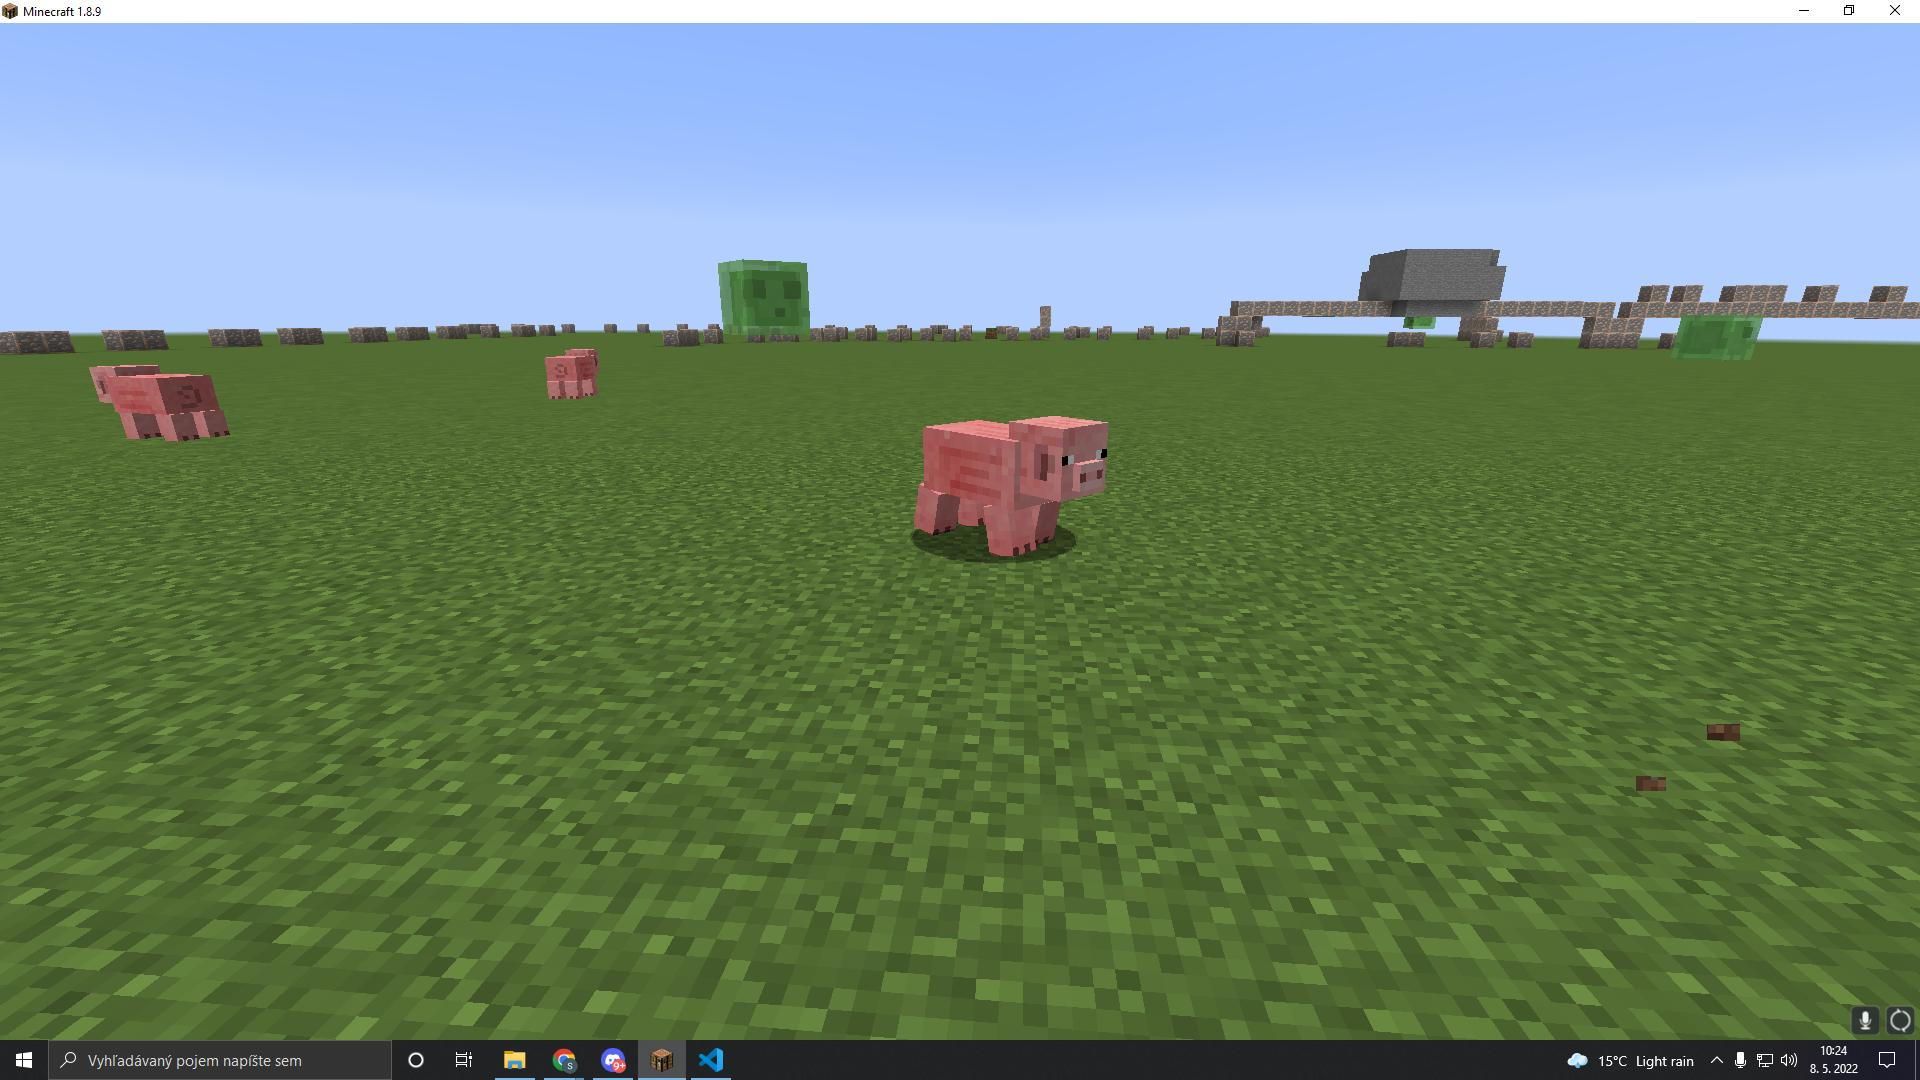pig: (903, 406, 1129, 570), (534, 336, 611, 410)
